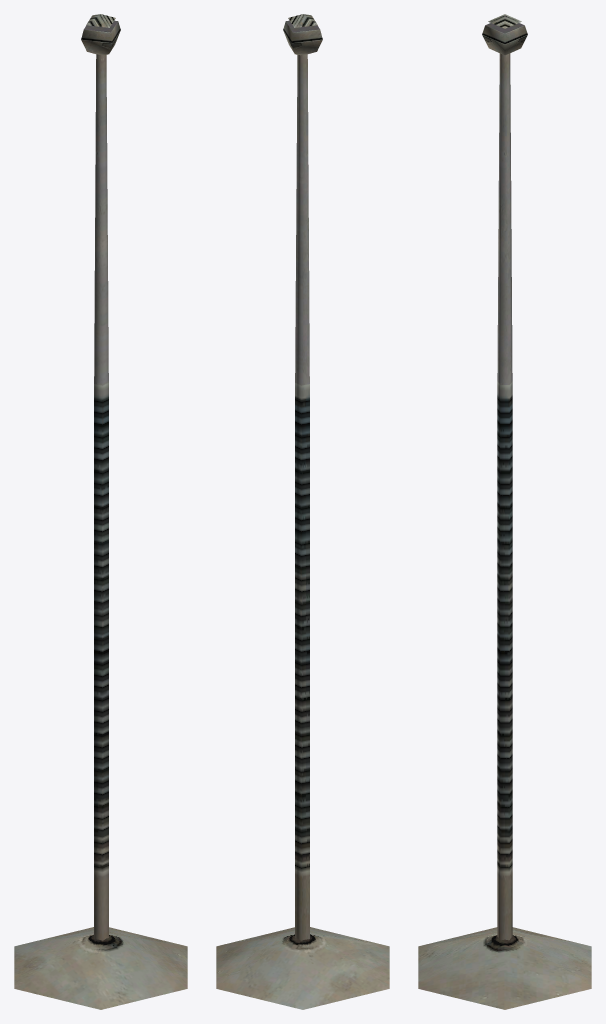
Rendered from eqp_music_microphone_s2_l1.fbx.
The picture shows the model from 3 angles, left to right: view 1: azimuth 30°, elevation 25°; view 2: azimuth 150°, elevation 25°; view 3: azimuth 270°, elevation 25°; orthographic projection.
Parts seen in each view (by area): view 1: mesh_node; view 2: mesh_node; view 3: mesh_node.
Boxes of the visible parts, x1=… form: mesh_node: x1=14, y1=14, x2=187, y2=1009; mesh_node: x1=216, y1=14, x2=389, y2=1009; mesh_node: x1=418, y1=14, x2=591, y2=1009.
Size of the model in its own units: 0.2872 by 1.51 by 0.2488.
1 material, 1 textured.
